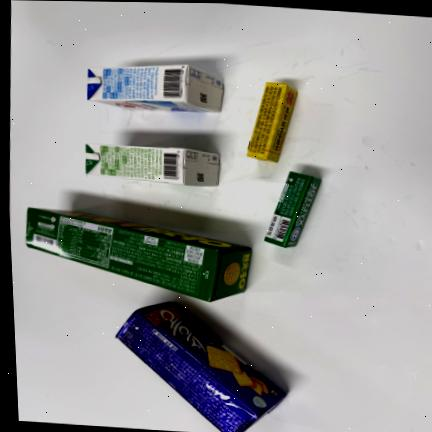cracker_ace: (116, 302, 286, 432)
cracker_vege: (26, 208, 252, 301)
gum_green: (265, 172, 321, 248)
gum_yellow: (247, 83, 297, 162)
milk_blue: (87, 65, 223, 113)
milk_green: (85, 144, 220, 187)
